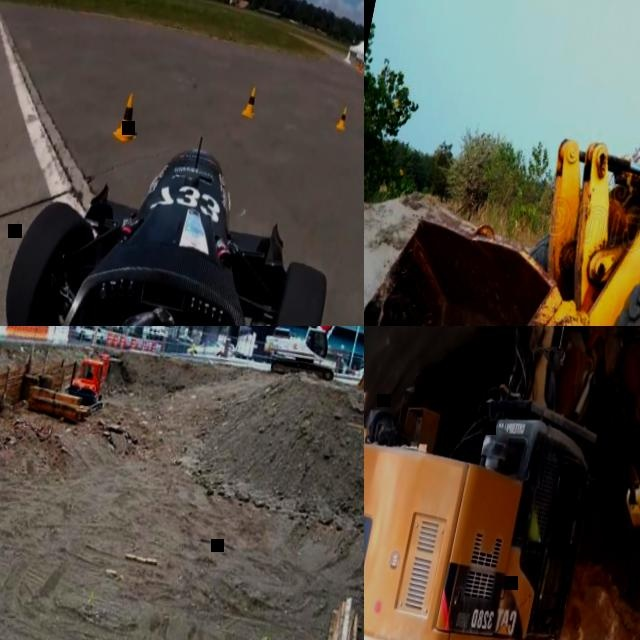Person: (514, 480, 563, 595)
Safety Cone: (111, 88, 148, 146), (239, 84, 259, 121), (336, 105, 353, 131), (118, 335, 126, 348), (104, 332, 112, 345), (112, 333, 119, 347), (140, 339, 148, 350), (130, 338, 137, 349), (150, 341, 157, 351)
Safety Vest: (525, 502, 546, 542)
machinery: (364, 0, 640, 326), (364, 326, 640, 640), (257, 326, 364, 399), (26, 340, 113, 425)
vehicle: (0, 102, 364, 326), (186, 334, 230, 360), (78, 326, 106, 342)
